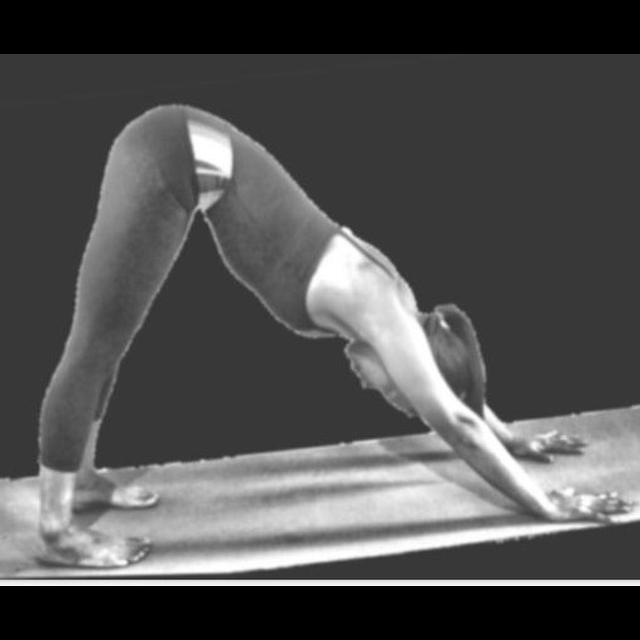Downward-Facing_Dog: (28, 97, 637, 578)
